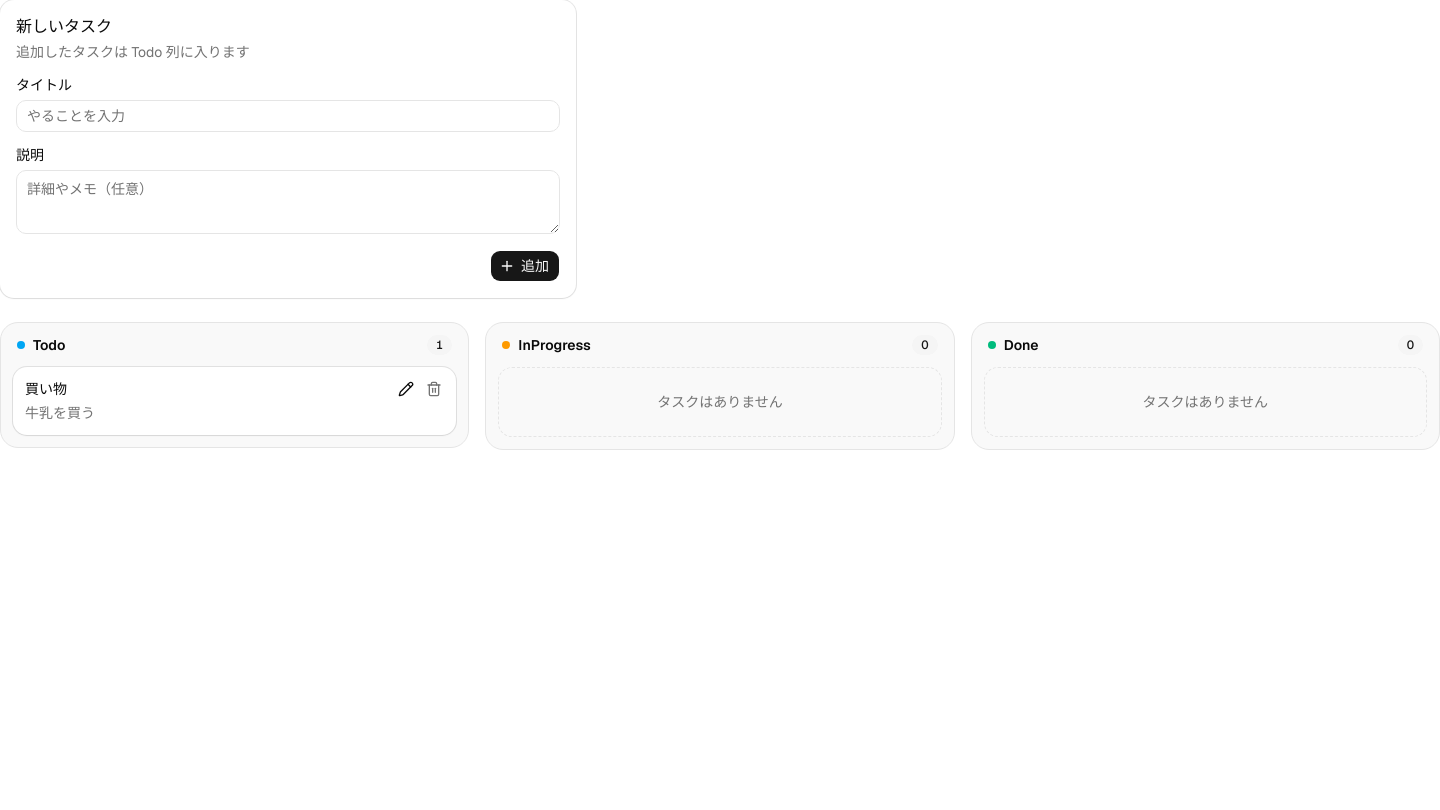
Test case: KanbanBoard › 編集 › タイトルと説明を編集して保存すると一覧にすぐ反映される
Expected: the element "Todo" is shown, [0, 322, 469, 448]
Click the button named "編集" at (406, 389), box [392, 375, 420, 403]
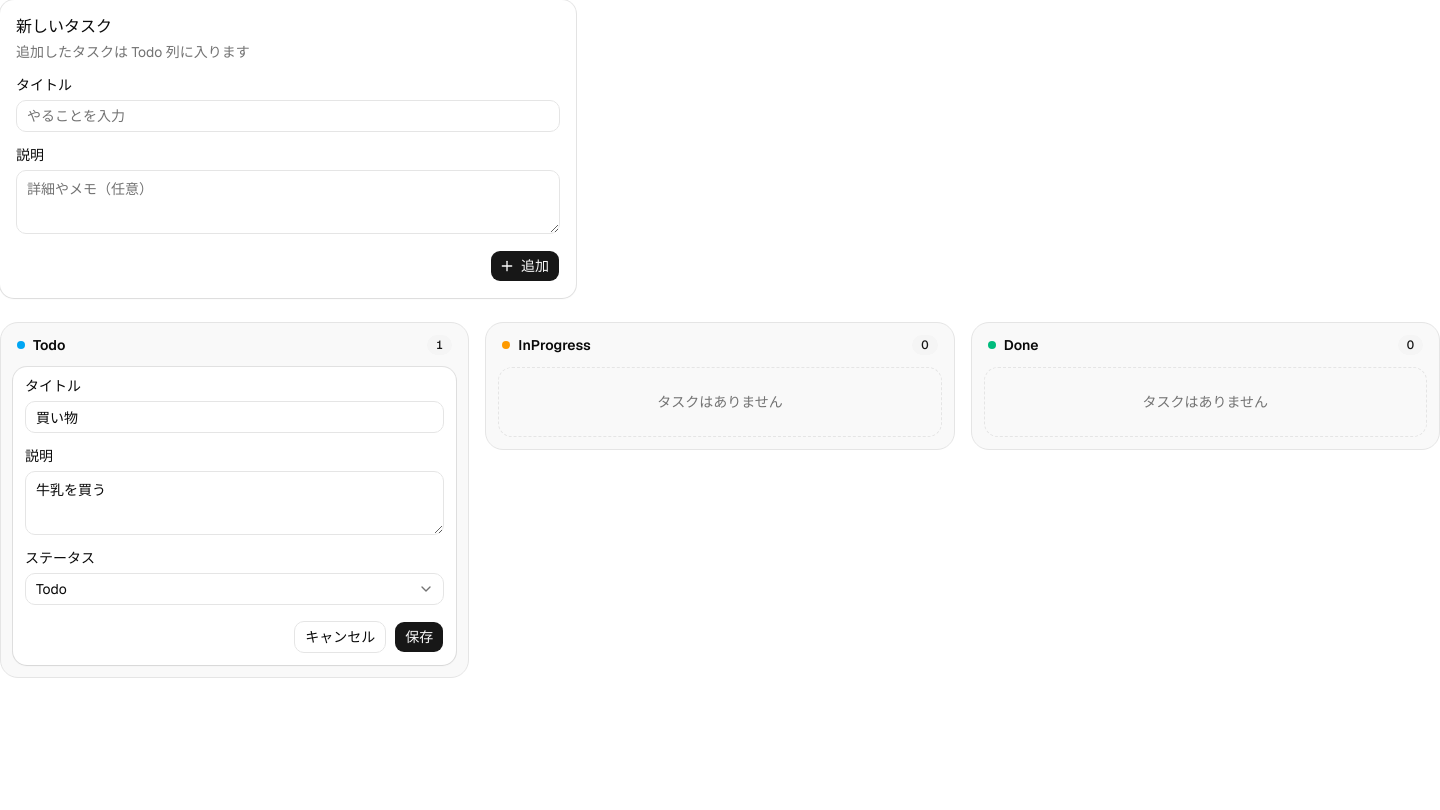
Replace the text in the field labelled "タイトル" below "InProgress" with "まとめ買い" at (235, 417), box [25, 401, 444, 433]
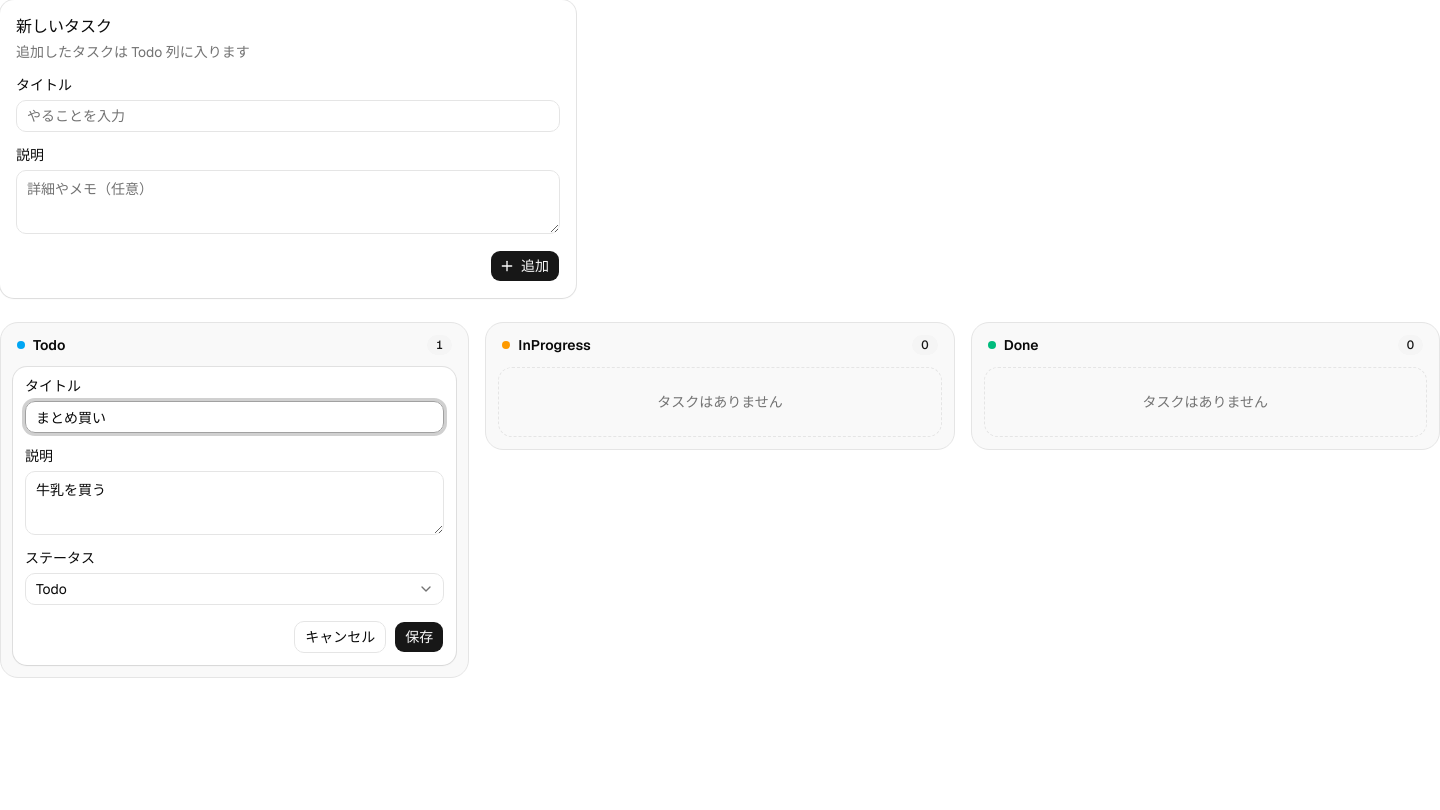
Replace the text in the text box labelled "説明" below "InProgress" with "週末に行く" at (235, 503), box [25, 471, 444, 535]
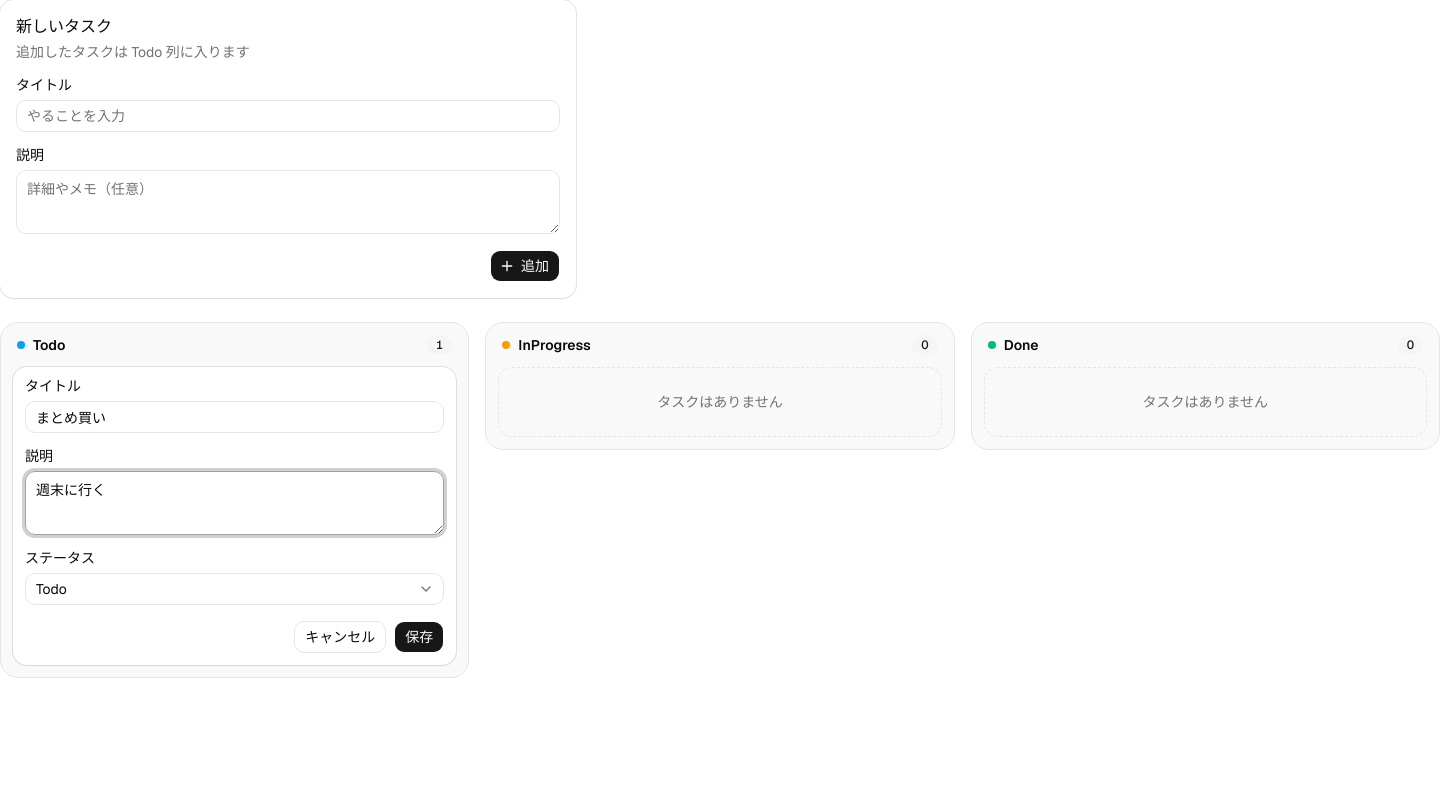
Click the button "保存" at (419, 637), box [394, 621, 444, 653]
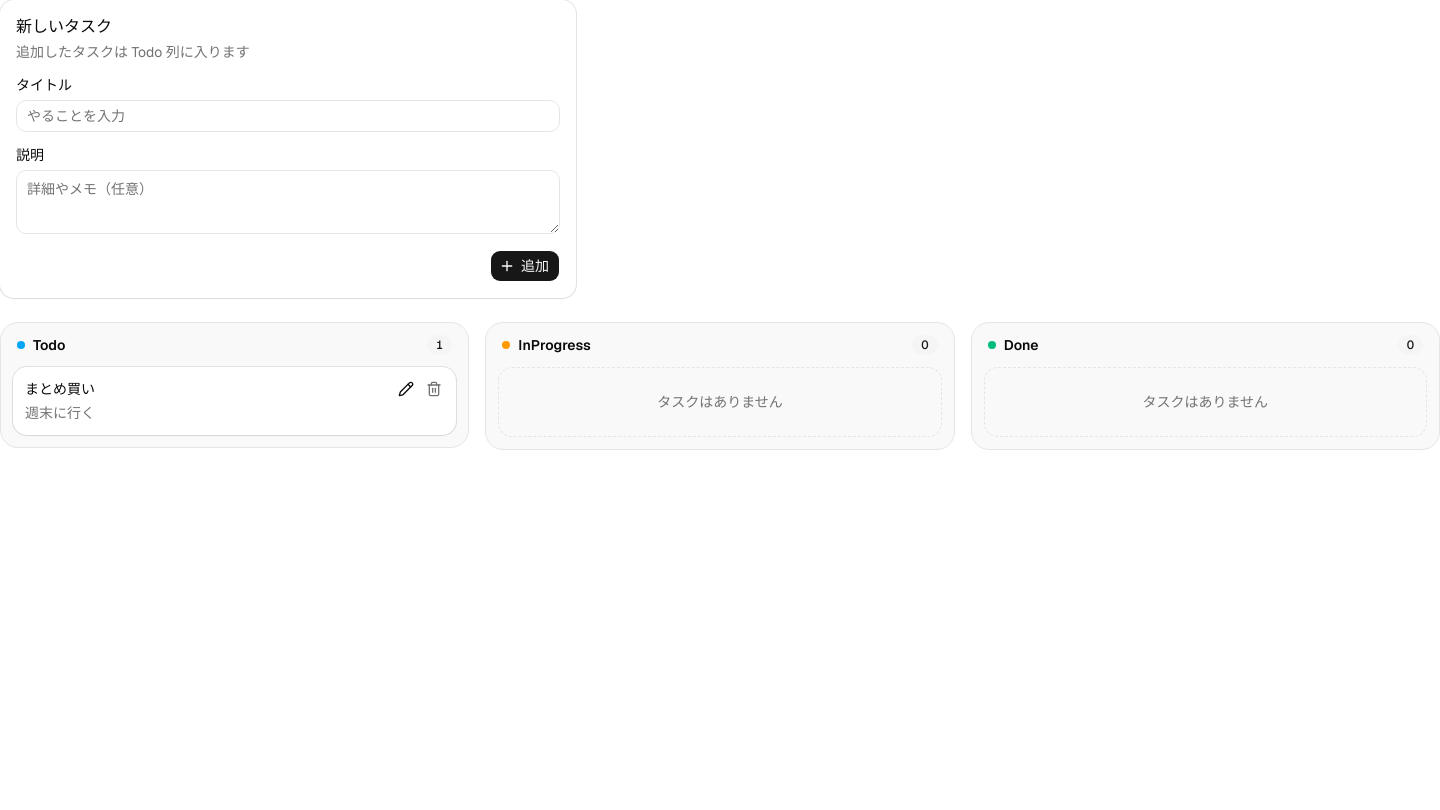
Expected: the field labelled "買い物" is not shown
Now the text "週末に行く" is shown, box [25, 404, 95, 422]
